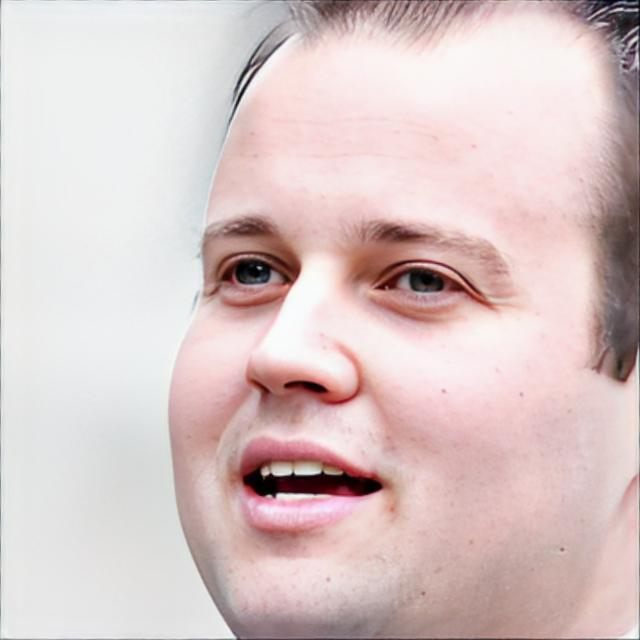happy: (165, 2, 640, 640)
